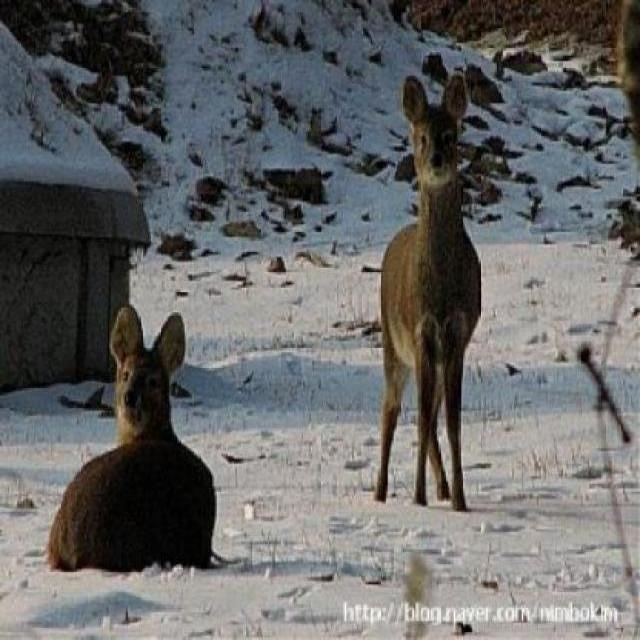deer: (38, 301, 227, 574), (378, 70, 484, 513)
